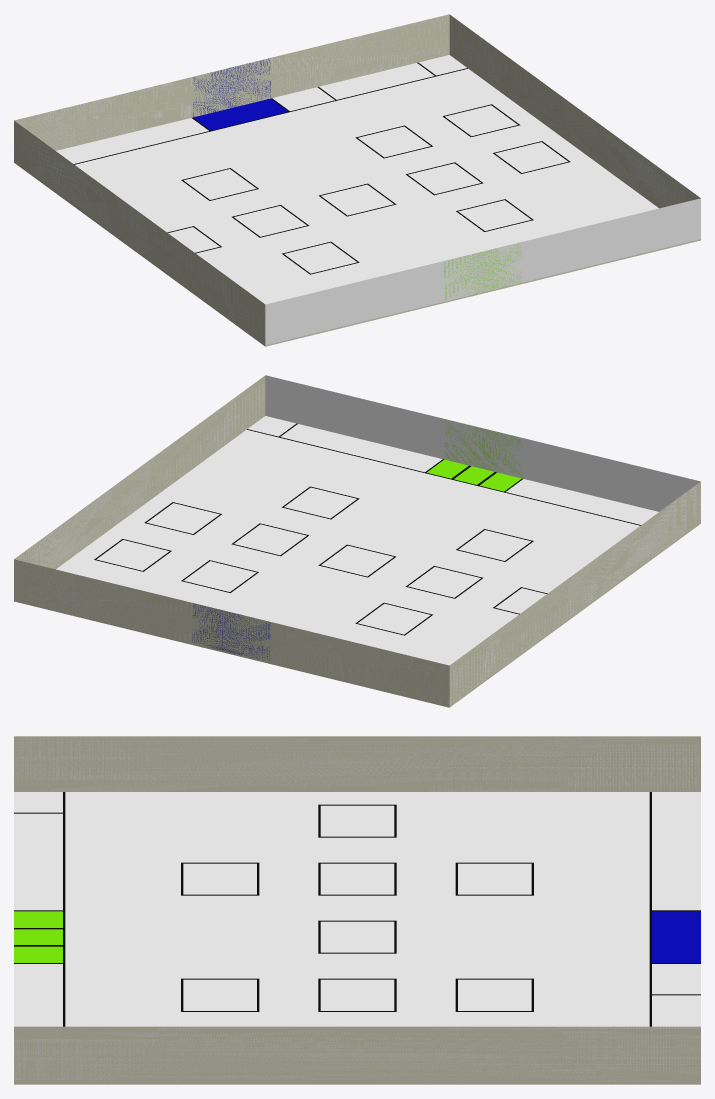
The model's file is RobotinoFeld_leer.dae.
3 views of the same model, one above another, from view 1: azimuth 30°, elevation 25°; view 2: azimuth 150°, elevation 25°; view 3: azimuth 270°, elevation 25° (orthographic). The views are drawn at different scales.
Visible parts, largest first — view 1: SketchUp (×18), group_1 (×3), group_3 (×3), group_0, group_2; view 2: SketchUp (×16), group_3 (×3), group_1 (×3), group_0, group_2; view 3: SketchUp (×22), group_2, group_0.
Part boxes in pixels (<box>): SketchUp (×18): <box>14,55,700,346</box>; group_1 (×3): <box>265,198,700,344</box>; group_3 (×3): <box>14,14,449,150</box>; group_0: <box>14,121,265,344</box>; group_2: <box>449,14,700,208</box>; SketchUp (×16): <box>14,416,700,707</box>; group_3 (×3): <box>14,559,449,705</box>; group_1 (×3): <box>265,375,700,511</box>; group_0: <box>449,482,700,705</box>; group_2: <box>14,375,265,569</box>; SketchUp (×22): <box>14,792,700,1084</box>; group_2: <box>14,1026,700,1082</box>; group_0: <box>14,736,700,791</box>.
Size of the model in its own units: 220 by 220 by 20.43.
